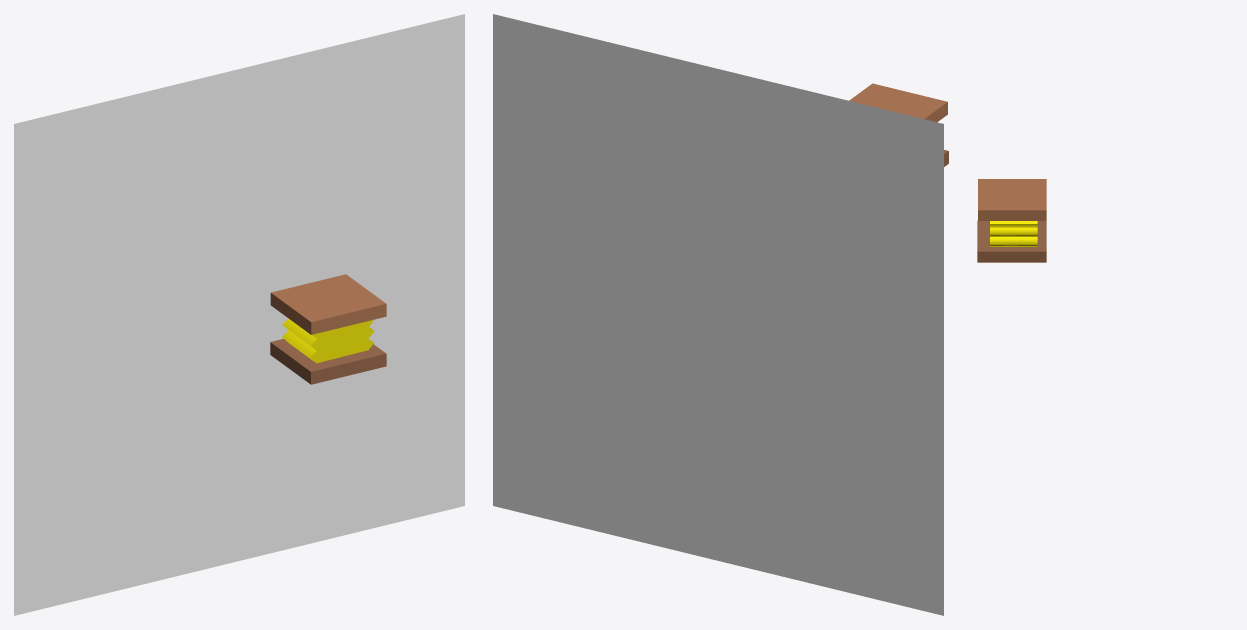
Rendered from dust_jump3.fbx.
The picture shows the model from 3 angles, left to right: view 1: azimuth 30°, elevation 25°; view 2: azimuth 150°, elevation 25°; view 3: azimuth 270°, elevation 25°; orthographic projection. The views are drawn at different scales.
Visible parts, largest first — view 1: root, node_id168 (×4); view 2: root, node_id168; view 3: node_id168 (×4).
Part boxes in pixels (bbox=[...]): root: bbox=[14, 14, 464, 615]; node_id168 (×4): bbox=[270, 274, 386, 384]; root: bbox=[493, 14, 943, 615]; node_id168: bbox=[849, 83, 947, 122]; node_id168 (×4): bbox=[977, 179, 1046, 262].
Size of the model in its own units: 564 by 588 by 327.
6 materials, 6 textured.
